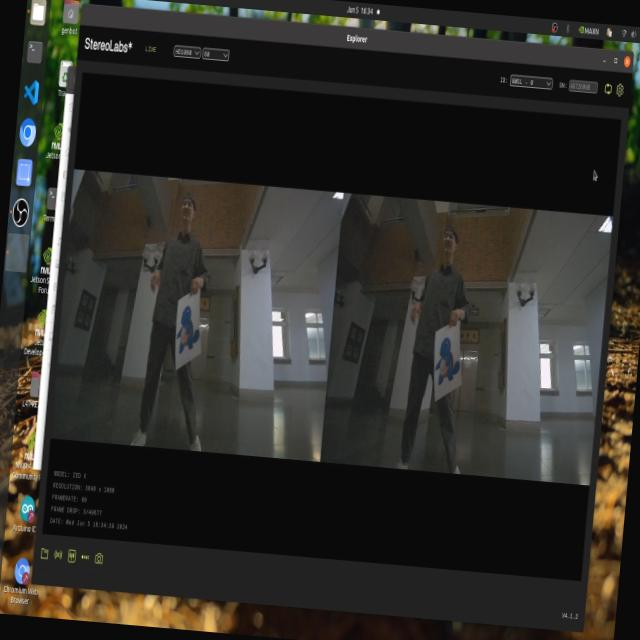blue: (429, 321, 462, 387), (176, 300, 204, 356)
